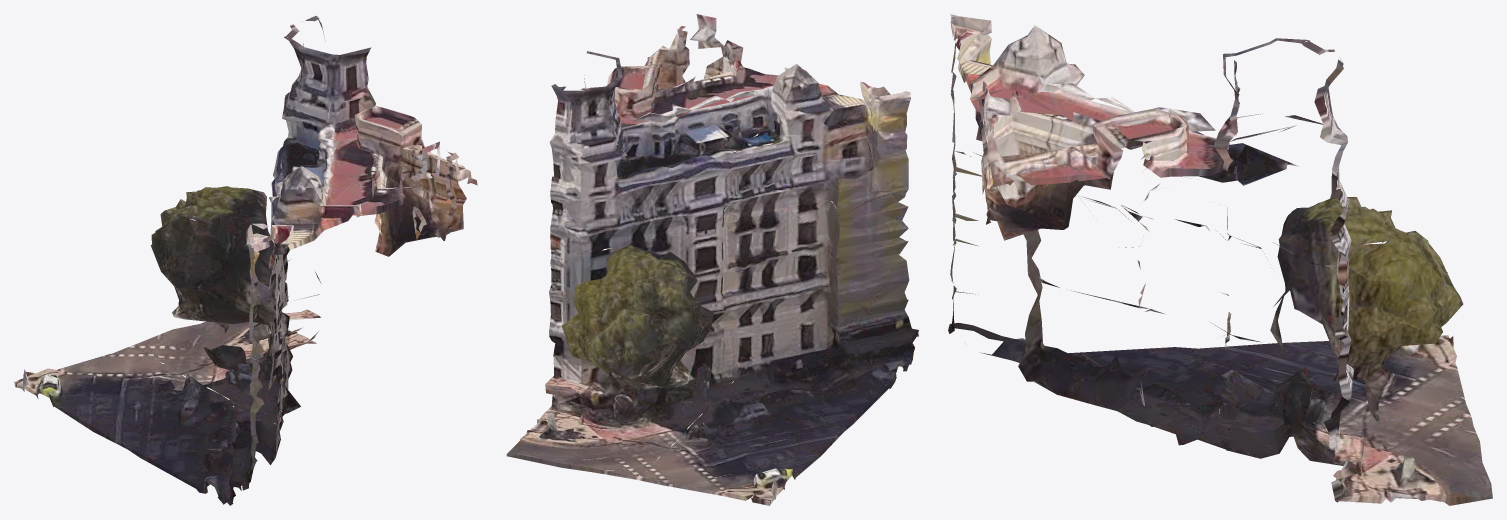
The picture shows the model from 3 angles, left to right: view 1: azimuth 30°, elevation 25°; view 2: azimuth 150°, elevation 25°; view 3: azimuth 270°, elevation 25°; orthographic projection. The views are drawn at different scales.
Visible parts, largest first — view 1: Mesh_0; view 2: Mesh_0; view 3: Mesh_0.
Boxes of the visible parts, x1,y1,x2,y2 form: Mesh_0: (14, 15, 477, 505); Mesh_0: (506, 14, 918, 505); Mesh_0: (948, 14, 1492, 505).
Size of the model in its own units: 33.27 by 37.49 by 41.5.
Materials: 1 (1 with a texture image).
